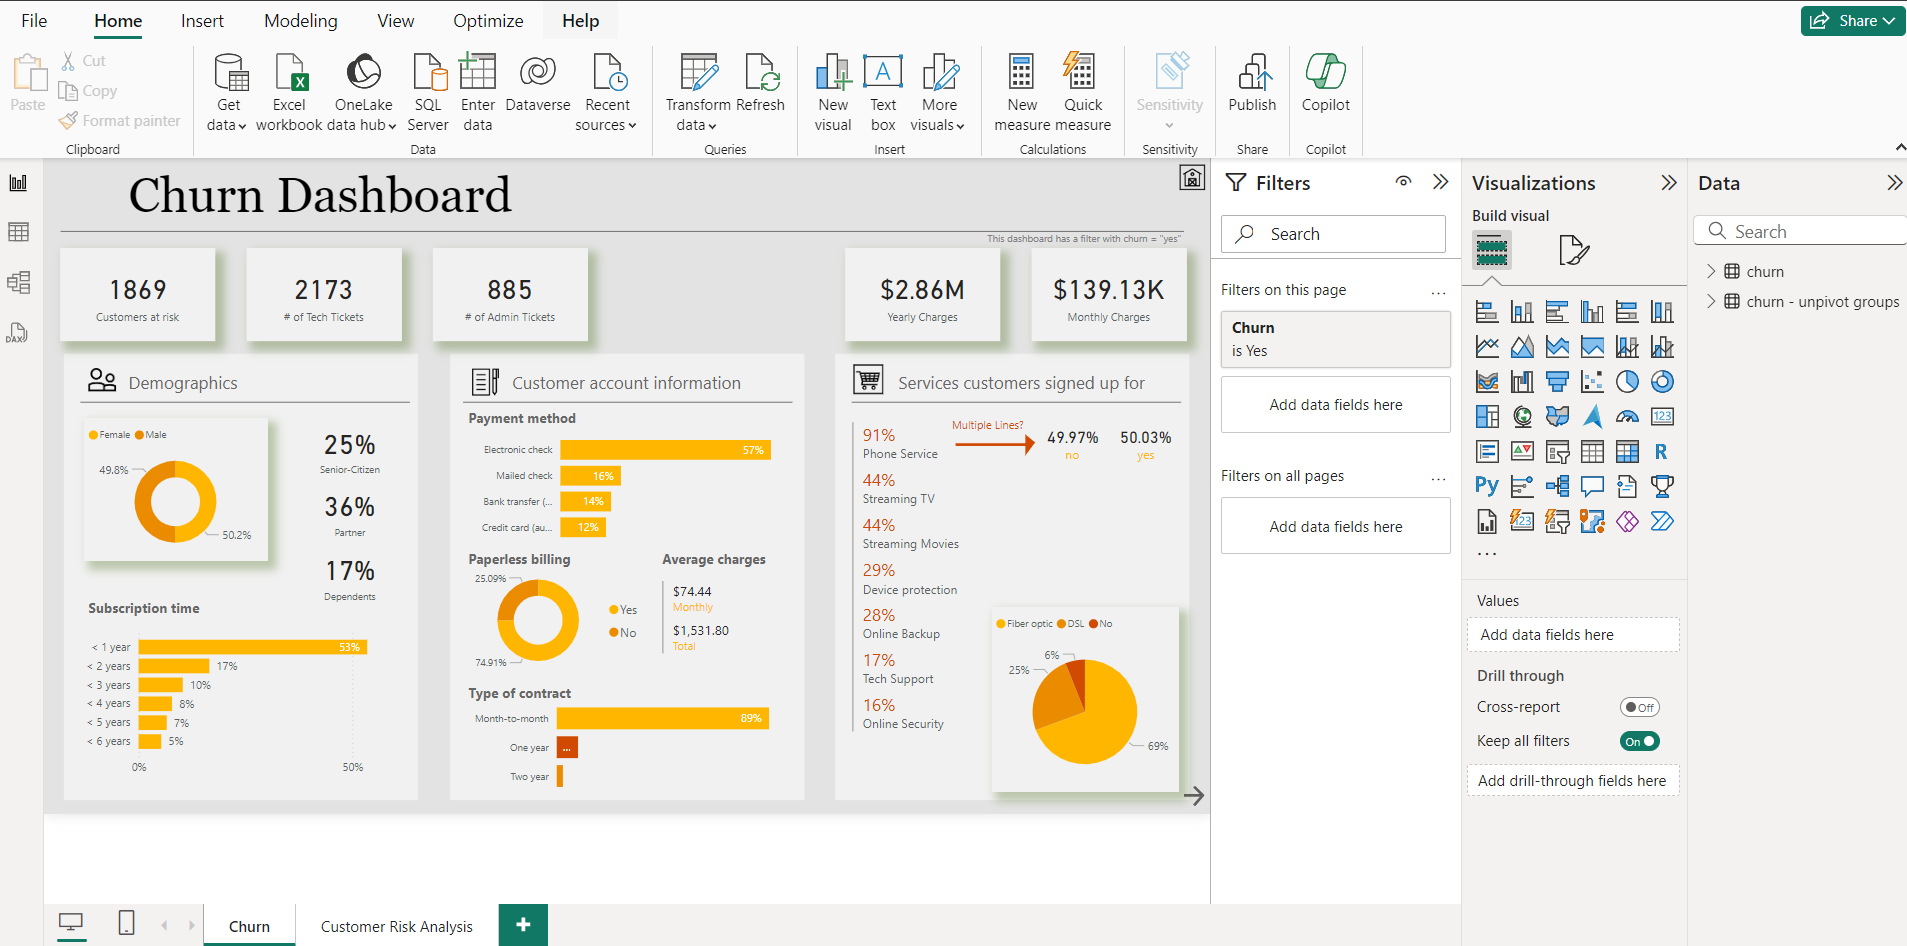

The dashboard page shown, as its layout file describes it:
{"tool":"powerbi","page":{"name":"Churn","canvas":[1280,720],"ordinal":0},"visuals":[{"type":"textbox","box":[87.7,4.9,1173.8,75],"z":0},{"type":"basicShape","box":[8.7,60.7,1253,40.5],"z":1000},{"type":"basicShape","box":[18.3,210,396.8,499.9],"z":2000},{"type":"card","fields":{"Values":["CountNonNull(churn.customerID)"]},"box":[18.5,99.4,170,102.3],"z":3000},{"type":"basicShape","box":[441.6,210,396.8,499.9],"z":4000},{"type":"basicShape","box":[864.9,210,396.8,499.9],"z":5000},{"type":"textbox","box":[508.5,228.6,314.9,35.6],"z":6000},{"type":"basicShape","box":[450.7,248.9,381.4,39.5],"z":7000},{"type":"image","box":[461.3,226.3,47.2,39.5],"z":8000},{"type":"textbox","box":[932.7,228.6,314.9,35.6],"z":9000},{"type":"basicShape","box":[877.4,248.9,381.4,39.5],"z":10000},{"type":"textbox","box":[88,228.6,314.9,35.6],"z":11000},{"type":"basicShape","box":[30.2,248.9,381.4,39.5],"z":12000},{"type":"image","box":[883.2,220.6,42.4,43.3],"z":13000},{"type":"image","box":[43.3,220.6,40.5,44.3],"z":14000},{"type":"donutChart","fields":{"Category":["churn.gender"],"Y":["CountNonNull(churn.gender)"]},"box":[43.8,286,201.3,156.6],"z":15000},{"type":"card","fields":{"Values":["churn.SeniorCitizen in %"]},"box":[271.4,268.7,128.1,100.2],"z":16000},{"type":"card","fields":{"Values":["churn.Partner in %"]},"box":[271.4,338.1,128.4,100.2],"z":17000},{"type":"card","fields":{"Values":["churn.Dependents in %"]},"box":[271.4,407.5,128.4,100.2],"z":18000},{"type":"clusteredBarChart","fields":{"Category":["churn.Contract"],"Y":["CountNonNull(churn.Contract)"]},"box":[461.3,577.9,370.8,131.9],"z":19000},{"type":"clusteredBarChart","fields":{"Y":["CountNonNull(churn.PaymentMethod)"],"Category":["churn.PaymentMethod"]},"box":[461.3,286,370.8,148.3],"z":20000},{"type":"textbox","box":[461.3,269.7,314.9,35.6],"z":21000},{"type":"textbox","box":[461.3,424.7,204.2,35.6],"z":22000},{"type":"donutChart","fields":{"Category":["churn.PaperlessBilling"],"Y":["CountNonNull(churn.PaperlessBilling)"]},"box":[461.3,438.2,204.2,139.7],"z":23000},{"type":"multiRowCard","fields":{"Values":["Avg(churn.MonthlyCharges)","Avg(churn.TotalCharges)"]},"box":[674.2,460.4,149.3,95.3],"z":24000},{"type":"textbox","box":[461.3,572.1,314.9,35.6],"z":25000},{"type":"pieChart","fields":{"Category":["churn.InternetService"],"Y":["Divide(CountNonNull(churn.InternetService), ScopedEval(CountNonNull(churn.InternetService), []))"]},"box":[1040.4,492.9,205.5,203.6],"z":26000},{"type":"card","fields":{"Values":["churn.Multiple Lines in %"]},"box":[1172.8,276.4,72.2,62.6],"z":27000},{"type":"card","fields":{"Values":["churn.Multiple lines no in %"]},"box":[1093.1,276.4,72.2,61.6],"z":28000},{"type":"textbox","box":[971.7,278.2,129.4,27.2],"z":29000},{"type":"textbox","box":[1092.2,311,73.2,35.6],"z":30000},{"type":"textbox","box":[1172.8,311,73.2,35.6],"z":31000},{"type":"textbox","box":[674.2,424.7,148.3,35.6],"z":32000},{"type":"multiRowCard","fields":{"Values":["churn.Phone Service in %","churn.Streaming TV in %","churn.Streaming Movies in %","churn.Device protection in %","churn.Online Bacup in %","churn.Tech Support in %","churn.Online Sec. in %"]},"box":[882.2,286,165.3,414.3],"z":33000},{"type":"basicShape","box":[990.2,300.5,97.3,28.2],"z":34000},{"type":"basicShape","box":[1063.1,296.7,37.9,32.1],"z":35000},{"type":"clusteredBarChart","fields":{"Y":["CountNonNull(churn.Churn)"],"Category":["churn.Loyalty"]},"box":[37,507.7,365.7,179],"z":36000},{"type":"textbox","box":[43.8,478.5,314.2,35],"z":37000},{"type":"actionButton","box":[1246.1,680.1,31.6,39.5],"z":39000},{"type":"card","fields":{"Values":["Sum(churn.MonthlyCharges)"]},"box":[1083.9,99.4,170,102.3],"z":41000},{"type":"card","fields":{"Values":["Sum(churn.numTechTickets)"]},"box":[222.8,99.4,170,102.3],"z":44000},{"type":"card","fields":{"Values":["Sum(churn.numAdminTickets)"]},"box":[427.1,99.4,170,102.3],"z":45000},{"type":"card","fields":{"Values":["Sum(churn.TotalCharges)"]},"box":[879.7,99.4,170,102.3],"z":46000},{"type":"textbox","box":[897,72.3,355.9,30.5],"z":47000},{"type":"image","box":[1242,0,38,42.9],"z":49000}]}

Visuals, with their boxes on the page's 1280x720 design canvas (x1, y1, x2, y2). These are canvas units, not pixel positions in the 1907x946 screenshot, which may show the page scaled, cropped or inside an application window:
textbox: (x1=88, y1=5, x2=1262, y2=80)
basicShape: (x1=9, y1=61, x2=1262, y2=101)
basicShape: (x1=18, y1=210, x2=415, y2=710)
card - CountNonNull(churn.customerID): (x1=18, y1=99, x2=188, y2=202)
basicShape: (x1=442, y1=210, x2=838, y2=710)
basicShape: (x1=865, y1=210, x2=1262, y2=710)
textbox: (x1=508, y1=229, x2=823, y2=264)
basicShape: (x1=451, y1=249, x2=832, y2=288)
image: (x1=461, y1=226, x2=508, y2=266)
textbox: (x1=933, y1=229, x2=1248, y2=264)
basicShape: (x1=877, y1=249, x2=1259, y2=288)
textbox: (x1=88, y1=229, x2=403, y2=264)
basicShape: (x1=30, y1=249, x2=412, y2=288)
image: (x1=883, y1=221, x2=926, y2=264)
image: (x1=43, y1=221, x2=84, y2=265)
donutChart - churn.gender x CountNonNull(churn.gender): (x1=44, y1=286, x2=245, y2=443)
card - churn.SeniorCitizen in %: (x1=271, y1=269, x2=400, y2=369)
card - churn.Partner in %: (x1=271, y1=338, x2=400, y2=438)
card - churn.Dependents in %: (x1=271, y1=408, x2=400, y2=508)
clusteredBarChart - churn.Contract x CountNonNull(churn.Contract): (x1=461, y1=578, x2=832, y2=710)
clusteredBarChart - CountNonNull(churn.PaymentMethod) x churn.PaymentMethod: (x1=461, y1=286, x2=832, y2=434)
textbox: (x1=461, y1=270, x2=776, y2=305)
textbox: (x1=461, y1=425, x2=666, y2=460)
donutChart - churn.PaperlessBilling x CountNonNull(churn.PaperlessBilling): (x1=461, y1=438, x2=666, y2=578)
multiRowCard - Avg(churn.MonthlyCharges) x Avg(churn.TotalCharges): (x1=674, y1=460, x2=824, y2=556)
textbox: (x1=461, y1=572, x2=776, y2=608)
pieChart - churn.InternetService x Divide(CountNonNull(churn.InternetService), ScopedEval(CountNonNull(churn.InternetService), [])): (x1=1040, y1=493, x2=1246, y2=696)
card - churn.Multiple Lines in %: (x1=1173, y1=276, x2=1245, y2=339)
card - churn.Multiple lines no in %: (x1=1093, y1=276, x2=1165, y2=338)
textbox: (x1=972, y1=278, x2=1101, y2=305)
textbox: (x1=1092, y1=311, x2=1165, y2=347)
textbox: (x1=1173, y1=311, x2=1246, y2=347)
textbox: (x1=674, y1=425, x2=822, y2=460)
multiRowCard - churn.Phone Service in % x churn.Streaming TV in %: (x1=882, y1=286, x2=1048, y2=700)
basicShape: (x1=990, y1=300, x2=1088, y2=329)
basicShape: (x1=1063, y1=297, x2=1101, y2=329)
clusteredBarChart - CountNonNull(churn.Churn) x churn.Loyalty: (x1=37, y1=508, x2=403, y2=687)
textbox: (x1=44, y1=478, x2=358, y2=514)
actionButton: (x1=1246, y1=680, x2=1278, y2=720)
card - Sum(churn.MonthlyCharges): (x1=1084, y1=99, x2=1254, y2=202)
card - Sum(churn.numTechTickets): (x1=223, y1=99, x2=393, y2=202)
card - Sum(churn.numAdminTickets): (x1=427, y1=99, x2=597, y2=202)
card - Sum(churn.TotalCharges): (x1=880, y1=99, x2=1050, y2=202)
textbox: (x1=897, y1=72, x2=1253, y2=103)
image: (x1=1242, y1=0, x2=1280, y2=43)
